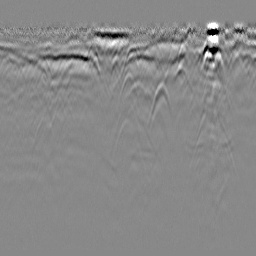cavity: (116, 68, 140, 111)
